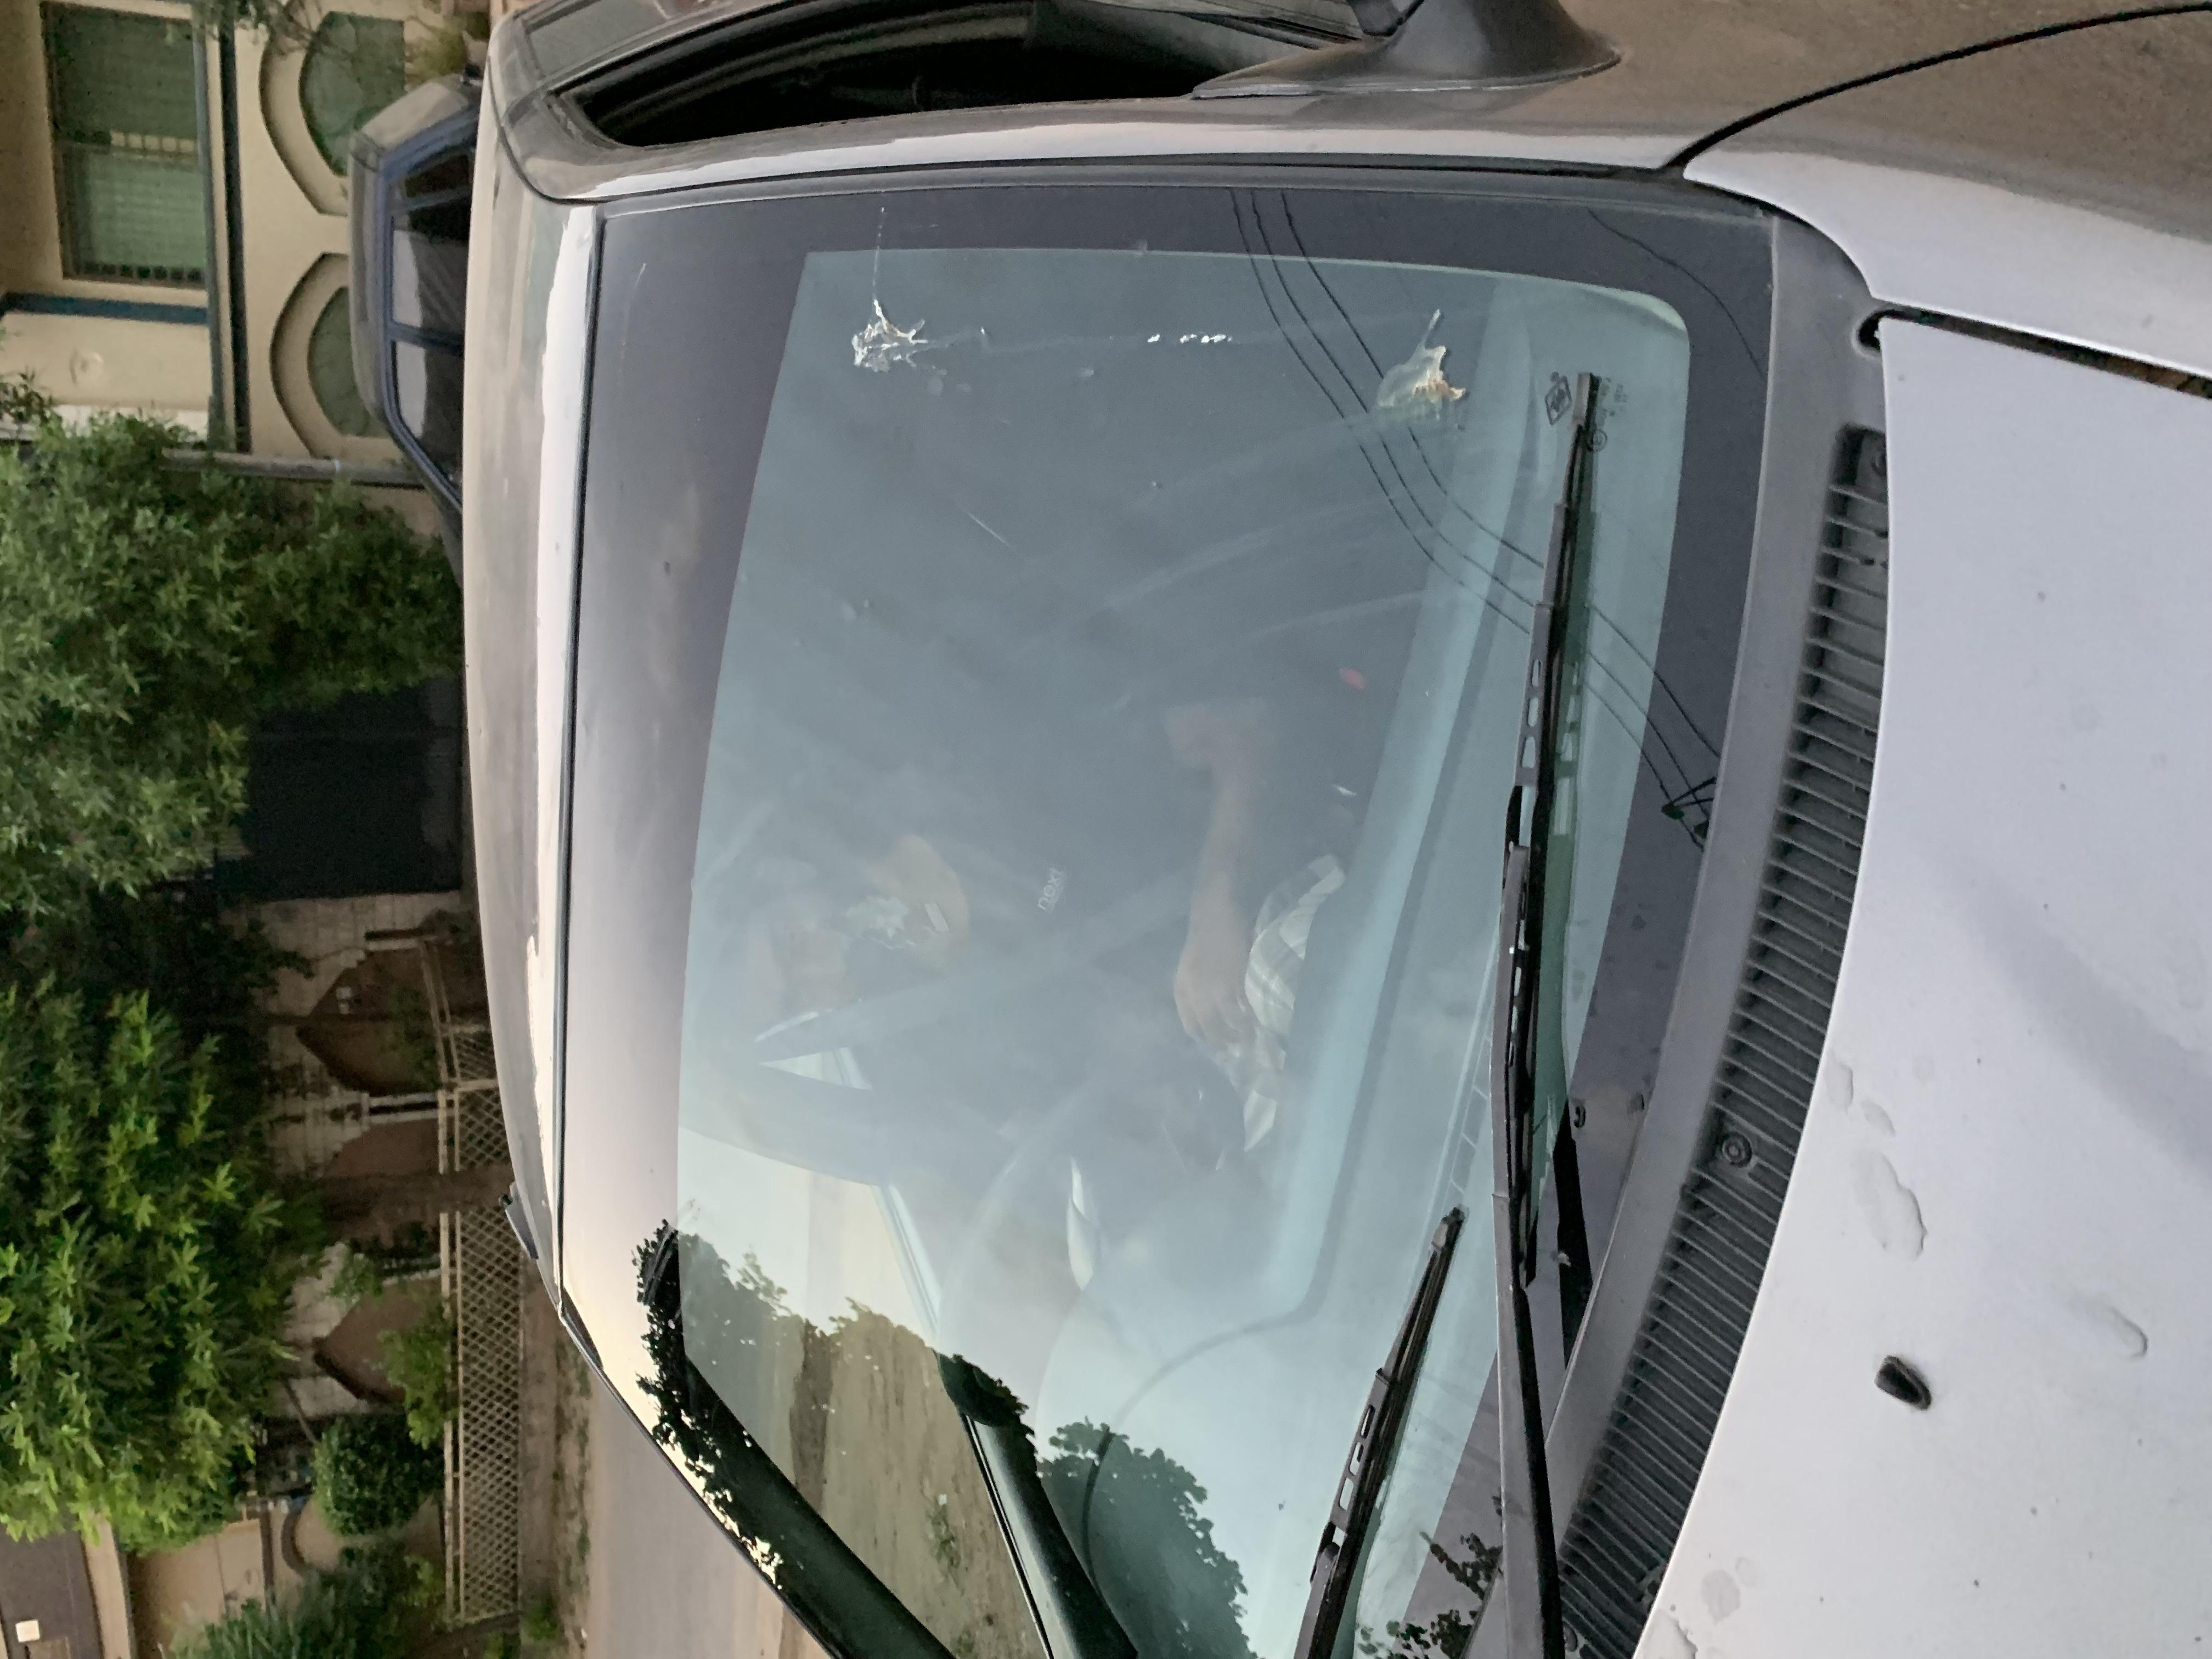windshield: (0, 383, 1991, 1239)
